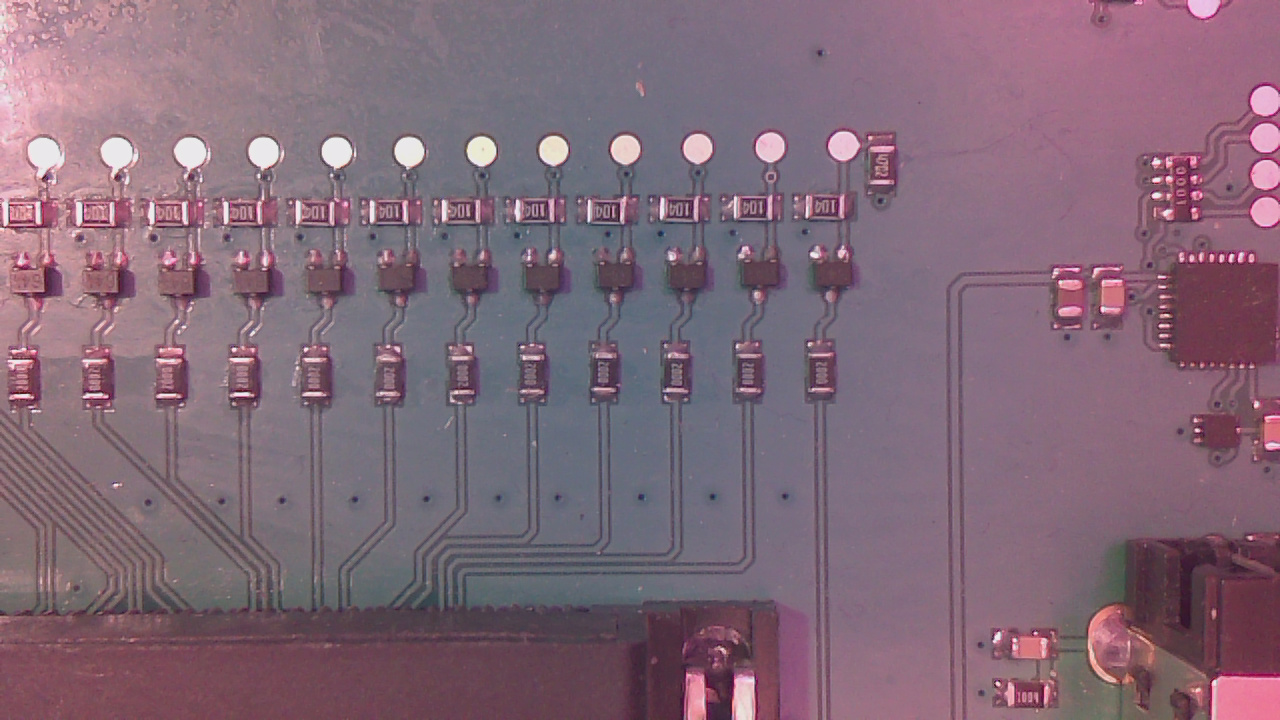Condensator: (1102, 274, 1131, 322), (1016, 637, 1057, 669), (1060, 280, 1090, 323), (1265, 416, 1280, 458)
Resistor: (303, 355, 336, 404), (158, 366, 192, 413), (873, 144, 906, 192), (13, 361, 46, 408), (596, 354, 628, 402), (90, 361, 121, 409), (813, 353, 846, 398), (235, 358, 266, 405), (1010, 683, 1055, 715), (737, 354, 769, 398), (520, 200, 565, 231), (452, 357, 483, 402), (525, 358, 555, 404), (668, 355, 698, 401), (662, 198, 709, 227), (380, 358, 410, 403), (298, 202, 341, 232), (810, 198, 856, 226), (447, 201, 489, 231), (227, 204, 272, 232), (590, 202, 632, 231), (79, 204, 121, 233), (7, 205, 53, 231), (152, 204, 196, 231), (372, 203, 415, 230), (739, 196, 779, 225)
Transistor: (88, 258, 135, 314), (309, 254, 353, 313), (382, 255, 427, 312), (816, 253, 861, 309), (670, 251, 715, 307), (454, 253, 497, 310), (164, 258, 207, 315), (16, 258, 61, 312), (742, 250, 785, 306), (235, 255, 277, 311), (600, 252, 641, 308), (528, 254, 570, 308)
